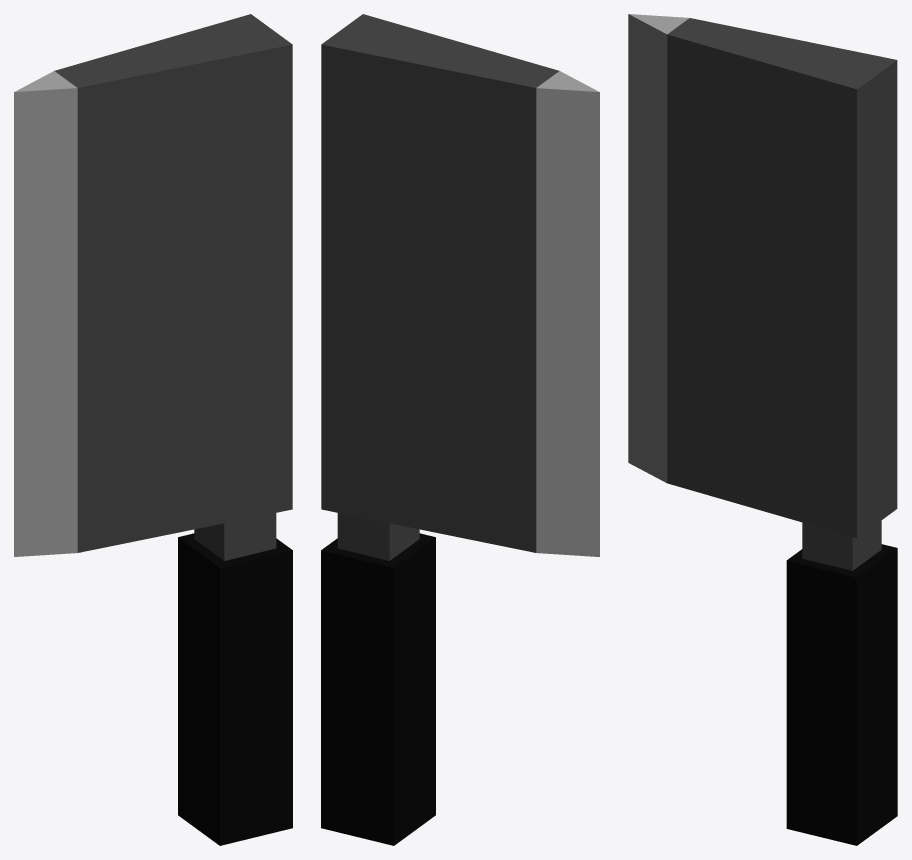
File: coutelas1_PLY.fbx
The picture shows the model from 3 angles, left to right: view 1: azimuth 30°, elevation 25°; view 2: azimuth 150°, elevation 25°; view 3: azimuth 330°, elevation 25°; orthographic projection. The views are drawn at different scales.
Parts seen in each view (by area): view 1: coutelas1_PLY; view 2: coutelas1_PLY; view 3: coutelas1_PLY.
Boxes of the visible parts, x1,y1,x2,y2 form: coutelas1_PLY: (14, 14, 292, 845); coutelas1_PLY: (321, 14, 599, 845); coutelas1_PLY: (628, 14, 897, 845).
Size of the model in its own units: 0.5928 by 1.72 by 0.1677.
